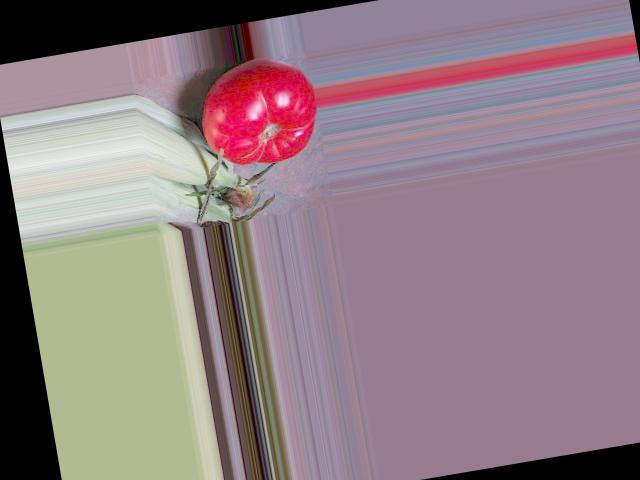tomato: (192, 50, 324, 173)
